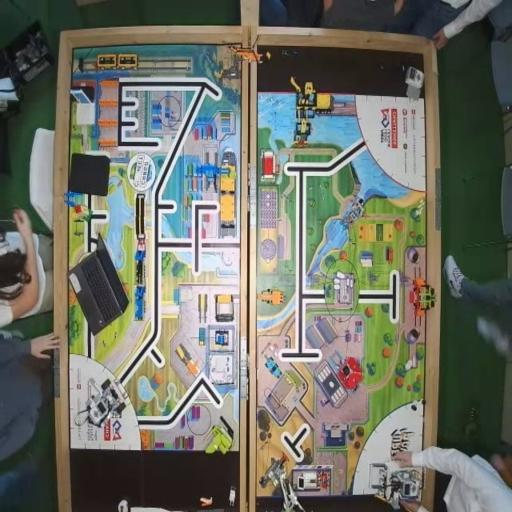lego_robot: (369, 462, 425, 510), (85, 377, 127, 430)
